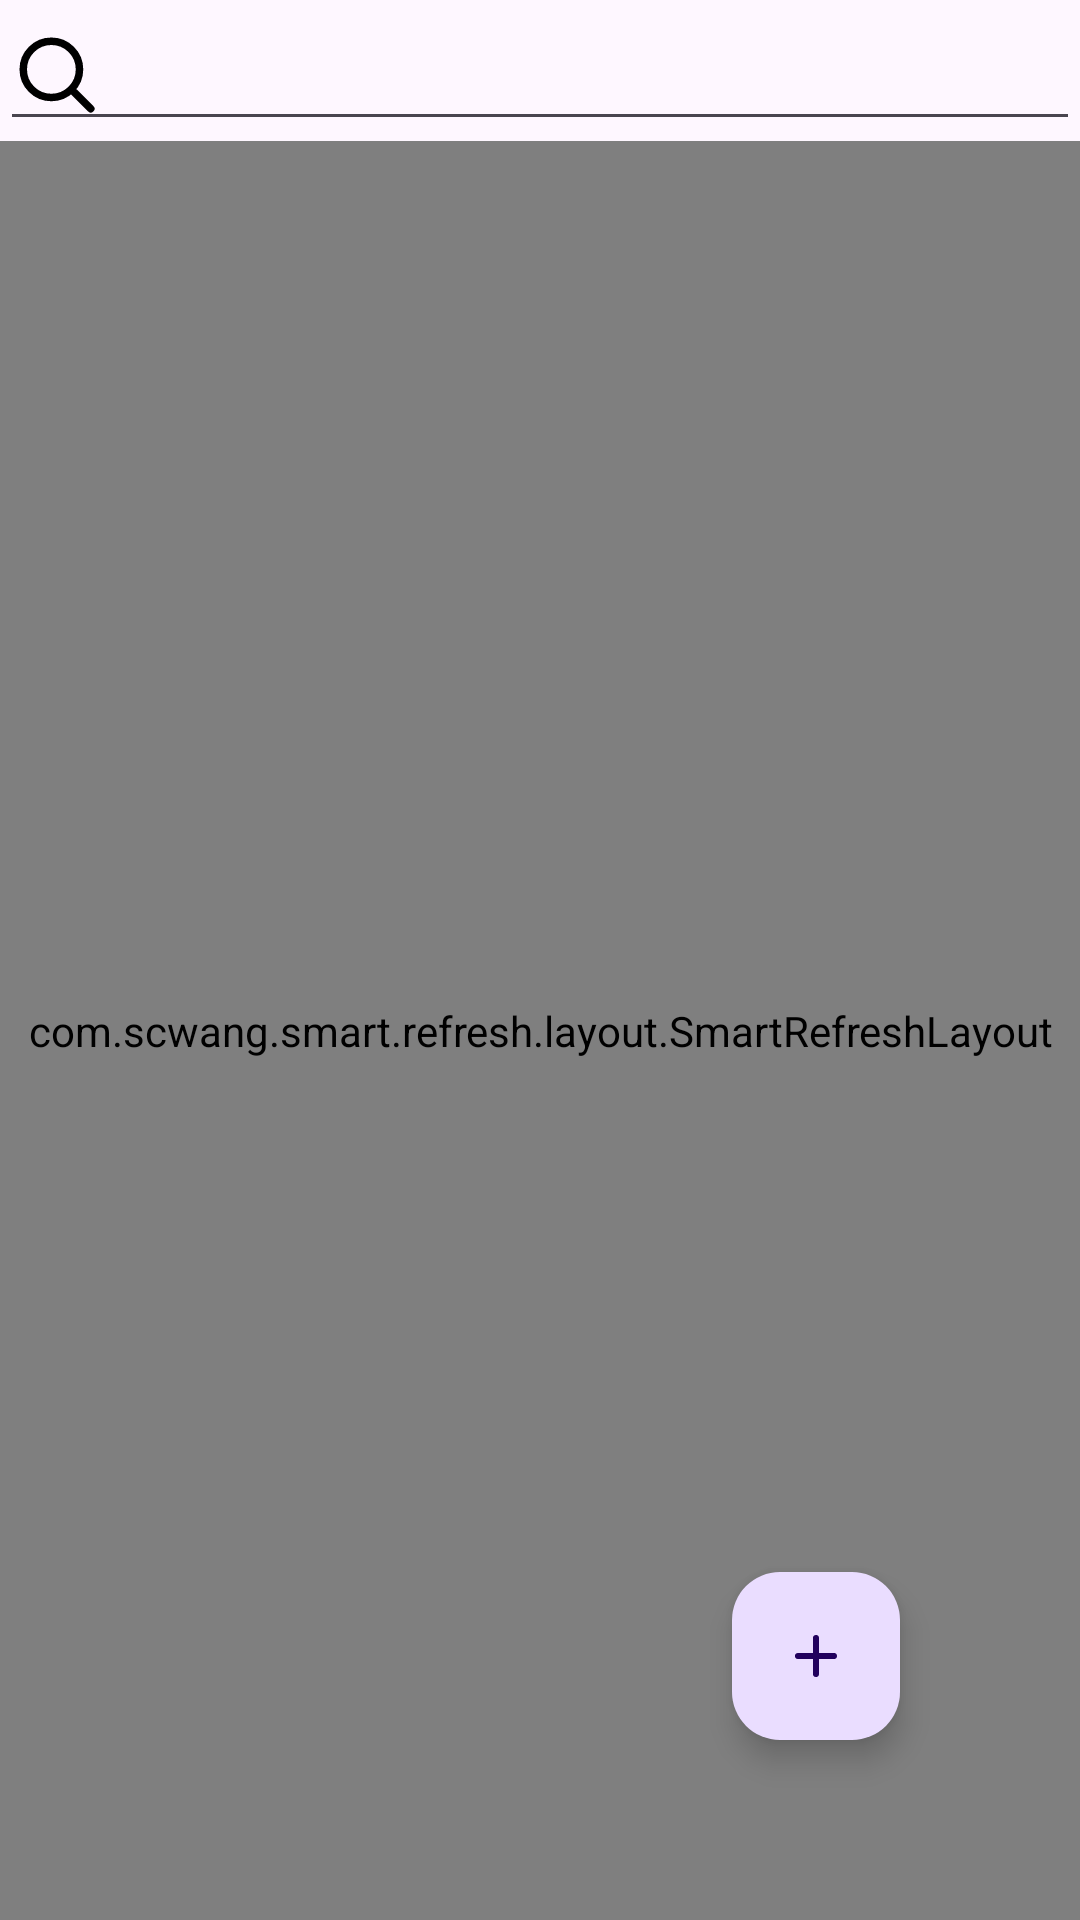

Icon click points for this 1080 x 1920 phone screenshot, format point (x, y):
新建: point (816, 1656)
